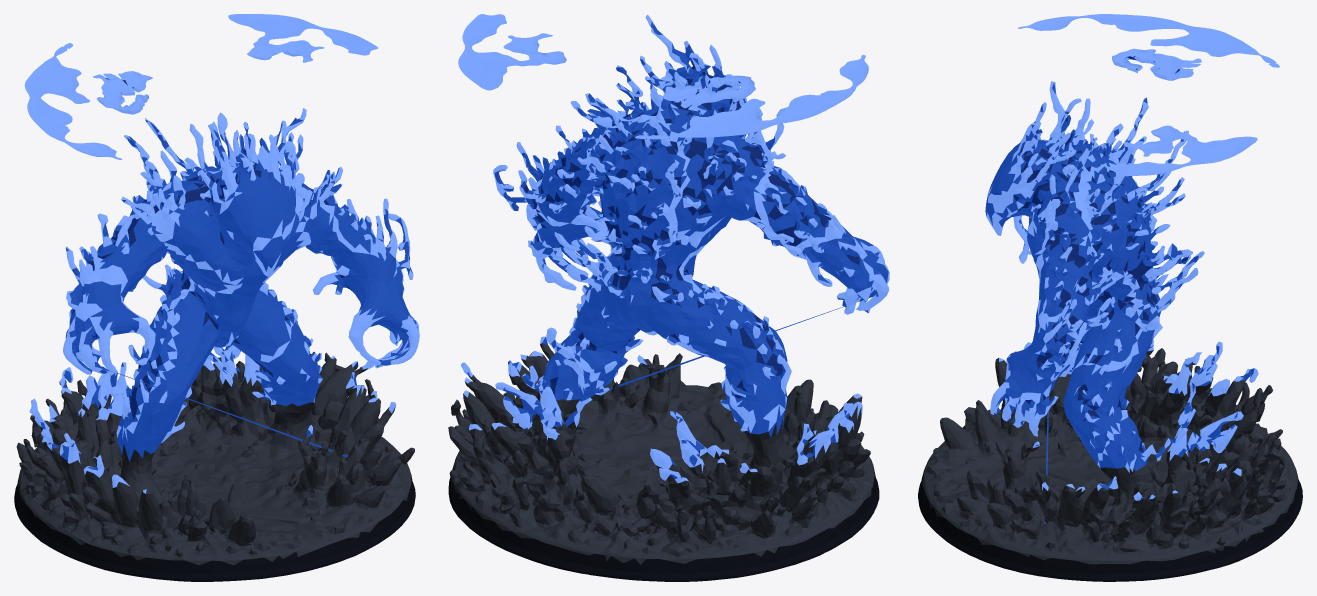
File: elemental_eletrico.glb
3 views of the same model, side by side, from view 1: azimuth 30°, elevation 25°; view 2: azimuth 150°, elevation 25°; view 3: azimuth 270°, elevation 25° (orthographic). The views are drawn at different scales.
Parts seen in each view (by area): view 1: tmp6r053616.ply; view 2: tmp6r053616.ply; view 3: tmp6r053616.ply.
Boxes of the visible parts, x1,y1,x2,y2 form: tmp6r053616.ply: (14, 14, 419, 581); tmp6r053616.ply: (448, 14, 889, 581); tmp6r053616.ply: (918, 14, 1302, 581).
Bounding box in the file's own units: 1.78 × 1.97 × 1.69.
